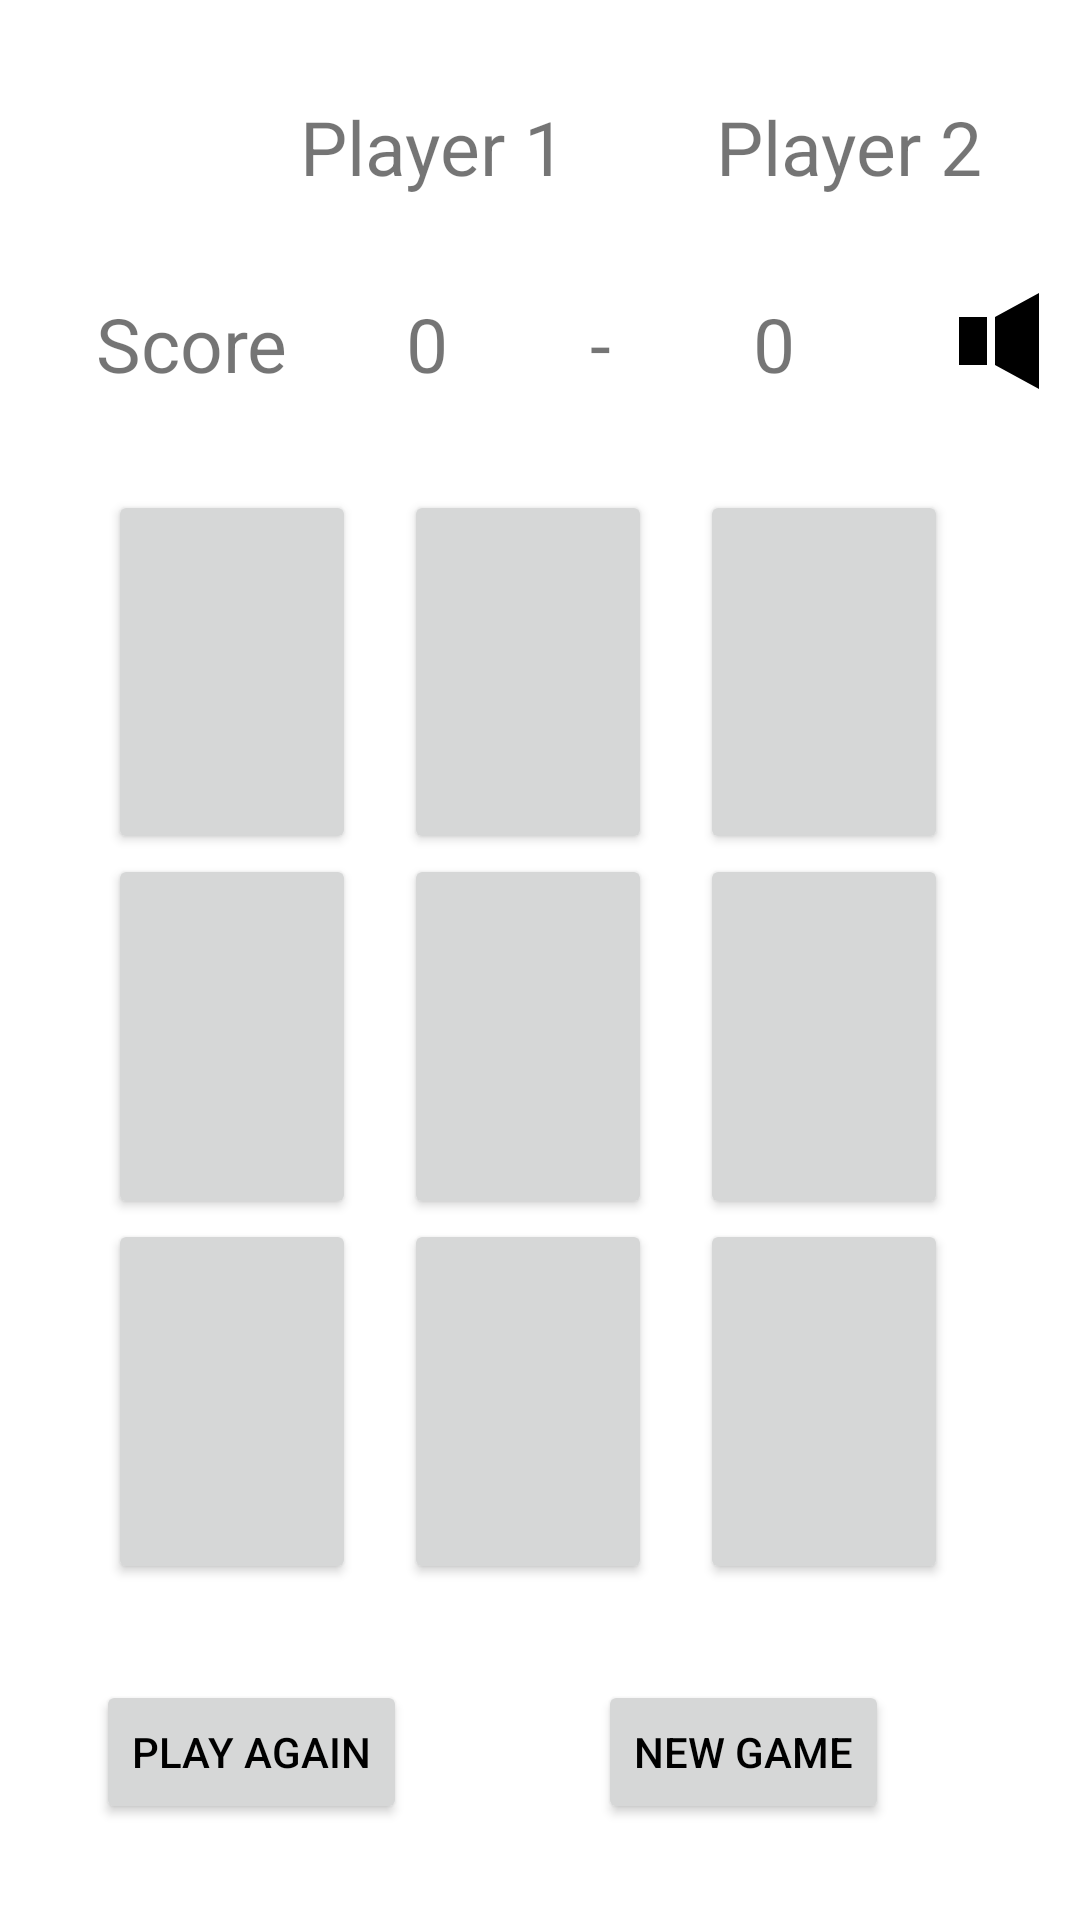

Icon click points for this 1080px×1920px phone screenshot, format point (x, y):
sound on: point (999, 341)
